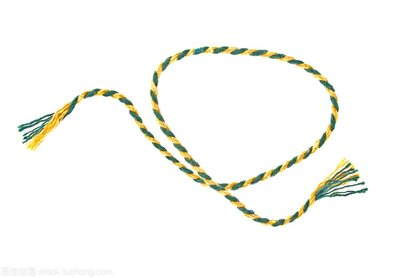9/可回收垃圾/绳子: (16, 45, 369, 228)
